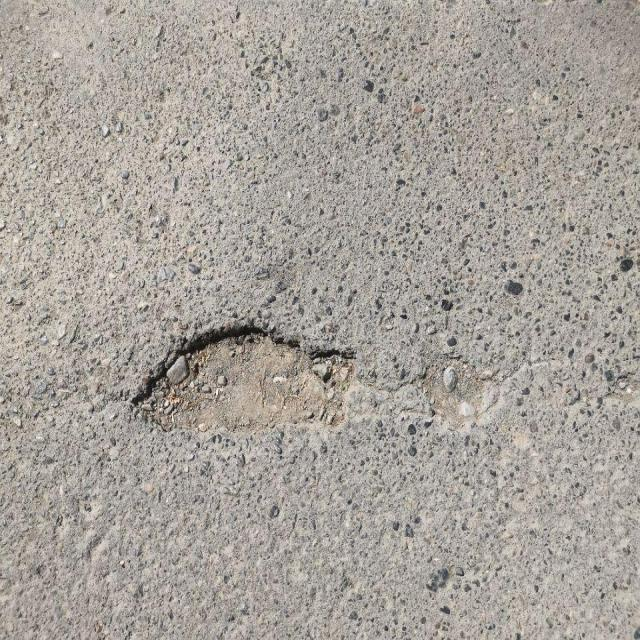Pothole: (132, 323, 360, 435), (415, 354, 501, 432), (602, 375, 639, 405)
